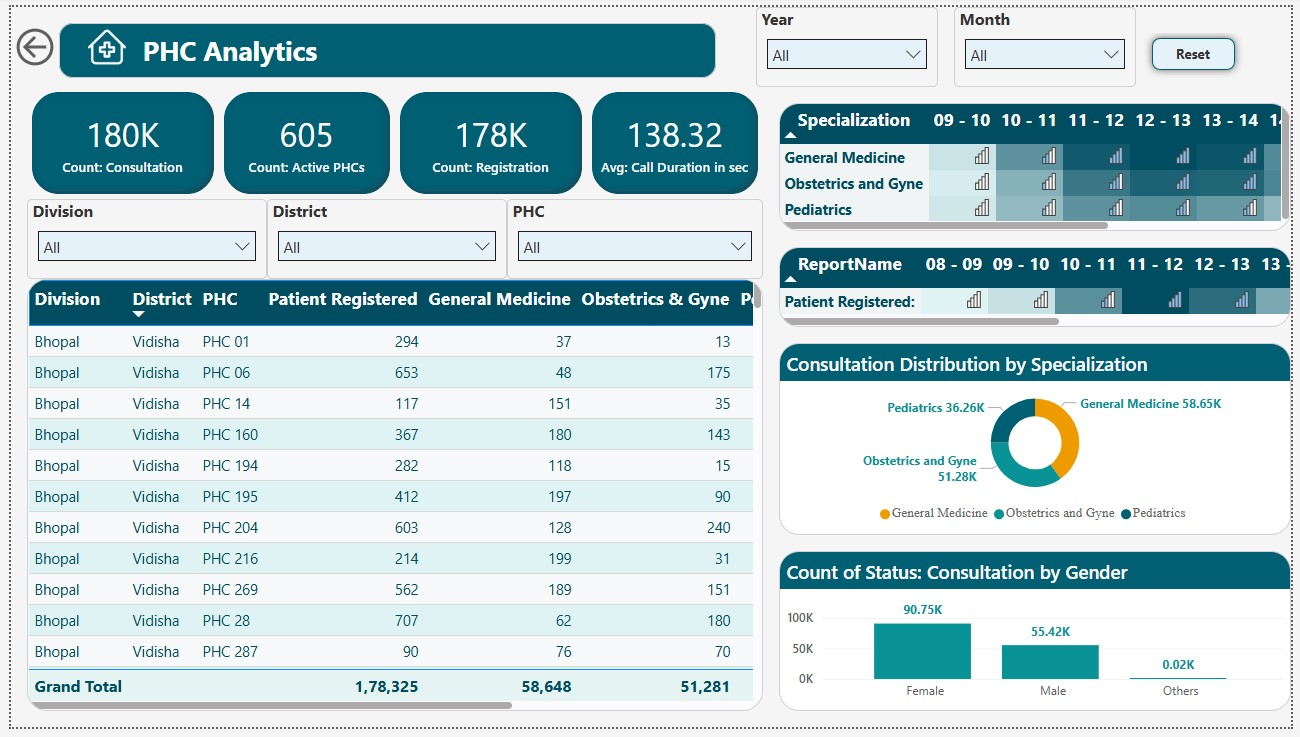

Layout of this report page (visuals, bound fields, positions):
{"tool":"powerbi","page":{"name":"PHC Analytics","canvas":[1280,720],"ordinal":1},"visuals":[{"type":"group","id":"g1","title":"Group 7","box":[48,0,1184,80],"z":0},{"type":"shape","box":[48,16.2,657.3,54.8],"z":0,"group":"g3"},{"type":"cardVisual","fields":{"Data":["Sum(Processed_Appointment.Consultation Done)"]},"box":[16,80,192,112],"z":1000},{"type":"group","id":"g2","title":"Group 2","box":[745.1,0,486.9,80],"z":2000,"group":"g1"},{"type":"donutChart","title":"Consultation Distribution by Specialization","fields":{"Y":["CountNonNull(Processed_Consultation.Status: Consultation)"],"Category":["Processed_Dim_Doctor.Specialization Hierarchy.Specialization","Processed_Dim_Doctor.Specialization Hierarchy.Doctor"]},"box":[768,336,512,192],"z":2000},{"type":"image","box":[48,16,96,48],"z":3000},{"type":"group","id":"g3","title":"Group 4","box":[48,16.2,657.3,54.8],"z":4000,"group":"g1"},{"type":"cardVisual","fields":{"Data":["Count(Processed_Appointment.DoctorID)"]},"box":[208,80,176,112],"z":4000},{"type":"slicer","title":"Year","fields":{"Values":["Processed_Dim_Date.Year"]},"box":[745.1,0,181.8,80],"z":5000,"group":"g2"},{"type":"actionButton","box":[0,16,48,48],"z":5000},{"type":"slicer","title":"Month","fields":{"Values":["Processed_Dim_Date.Month Year"]},"box":[943.4,0,181.8,80],"z":6000,"group":"g2"},{"type":"cardVisual","fields":{"Data":["Processed_Dim_PHC.Count: Registration"]},"box":[384,80,192,112],"z":6000},{"type":"actionButton","box":[1132.9,23.3,99.1,47.6],"z":7000,"group":"g2"},{"type":"tableEx","fields":{"Values":["Processed_Dim_PHC.Division","Processed_Dim_PHC.DistrictName","Processed_Dim_PHC.PHCName","Processed_Dim_PHC.Count: Registration","Processed_Consultation.Count: GenMed","Processed_Consultation.Count: Obs&Gyne","Processed_Consultation.Count: Pedia","Processed_Dim_PHC.Count: Consultation","Processed_Consultation.Distinct_Drs"]},"box":[16,288,736,416],"z":7000},{"type":"cardVisual","fields":{"Data":["Processed_Appointment.PHC_ConversionRate"]},"box":[576,80,176,112],"z":8000},{"type":"slicer","title":"Division","fields":{"Values":["Processed_Dim_PHC.Division"]},"box":[16,192,240,80],"z":9000},{"type":"slicer","title":"PHC","fields":{"Values":["Processed_Dim_PHC.PHCName"]},"box":[496,192,256,80],"z":10000},{"type":"slicer","title":"District","fields":{"Values":["Processed_Dim_PHC.DistrictName"]},"box":[256,192,240,80],"z":11000},{"type":"pivotTable","fields":{"Rows":["Processed_Dim_Doctor.Specialization"],"Columns":["Processed_Consultation.Hour"],"Values":["CountNonNull(Processed_Consultation.Status: Consultation)"]},"box":[768,96,512,128],"z":12000},{"type":"pivotTable","fields":{"Columns":["Processed_Patientreg.Hour"],"Rows":["Processed_Patientreg.ReportName"],"Values":["Sum(Processed_Patientreg.Count: Patient Registered)"]},"box":[768,240,512,80],"z":13000},{"type":"columnChart","fields":{"Category":["Processed_Consultation.Gender"],"Y":["CountNonNull(Processed_Consultation.Status: Consultation)"]},"box":[768,544,512,160],"z":14000}]}

Visuals, with their boxes in screenshot pixels (x1, y1, x2, y2), scaled from the page's 1280x720 canvas onto the 1300x737 screenshot:
"Group 7" group: (left=49, top=0, right=1251, bottom=82)
shape: (left=49, top=17, right=716, bottom=73)
cardVisual - Sum(Processed_Appointment.Consultation Done): (left=16, top=82, right=211, bottom=197)
"Group 2" group: (left=757, top=0, right=1251, bottom=82)
"Consultation Distribution by Specialization" donutChart: (left=780, top=344, right=1299, bottom=540)
image: (left=49, top=16, right=146, bottom=66)
"Group 4" group: (left=49, top=17, right=716, bottom=73)
cardVisual - Count(Processed_Appointment.DoctorID): (left=211, top=82, right=390, bottom=197)
"Year" slicer: (left=757, top=0, right=941, bottom=82)
actionButton: (left=0, top=16, right=49, bottom=66)
"Month" slicer: (left=958, top=0, right=1143, bottom=82)
cardVisual - Processed_Dim_PHC.Count: Registration: (left=390, top=82, right=585, bottom=197)
actionButton: (left=1151, top=24, right=1251, bottom=73)
tableEx - Processed_Dim_PHC.Division x Processed_Dim_PHC.DistrictName: (left=16, top=295, right=764, bottom=721)
cardVisual - Processed_Appointment.PHC_ConversionRate: (left=585, top=82, right=764, bottom=197)
"Division" slicer: (left=16, top=197, right=260, bottom=278)
"PHC" slicer: (left=504, top=197, right=764, bottom=278)
"District" slicer: (left=260, top=197, right=504, bottom=278)
pivotTable - Processed_Dim_Doctor.Specialization x Processed_Consultation.Hour: (left=780, top=98, right=1299, bottom=229)
pivotTable - Processed_Patientreg.Hour x Processed_Patientreg.ReportName: (left=780, top=246, right=1299, bottom=328)
columnChart - Processed_Consultation.Gender x CountNonNull(Processed_Consultation.Status: Consultation): (left=780, top=557, right=1299, bottom=721)
